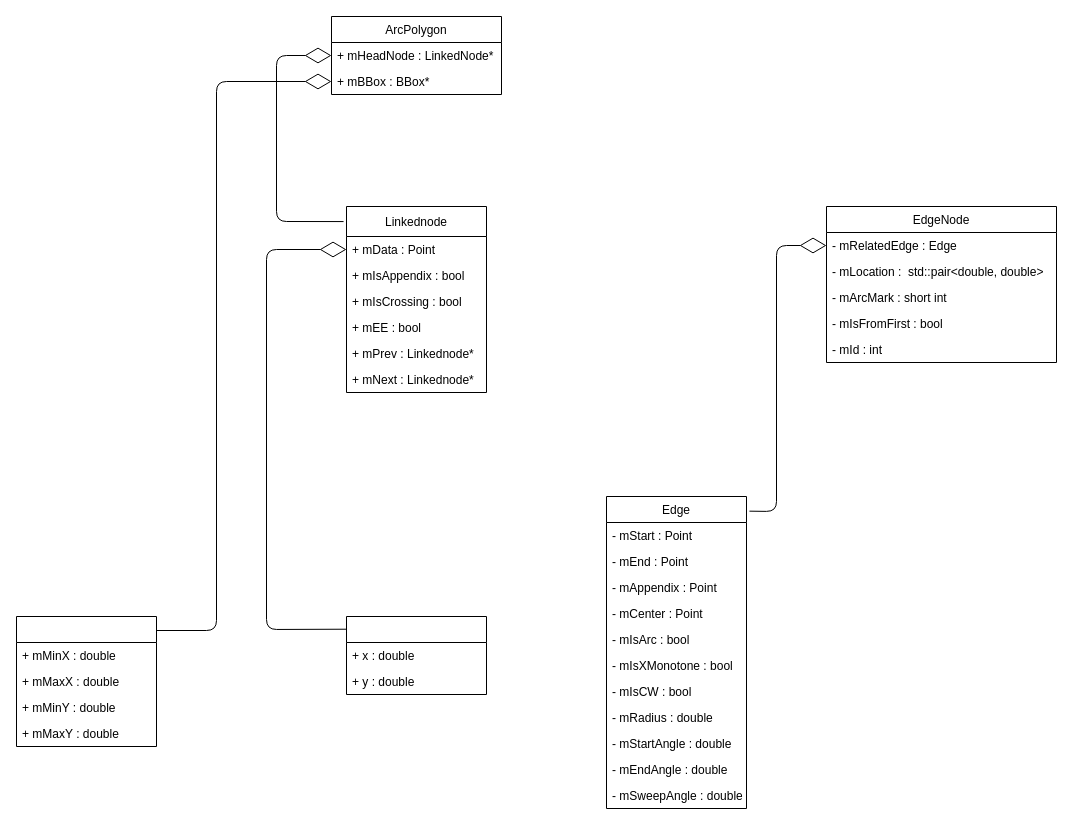
This 1073x825 diagram has some shape labels left out. The box of each missing label's shape, as (x1, y1, x2, y2) in pixels:
BBox: (16, 616, 156, 746)
Point: (346, 616, 486, 694)
